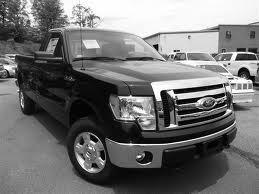car: (13, 28, 244, 183)
